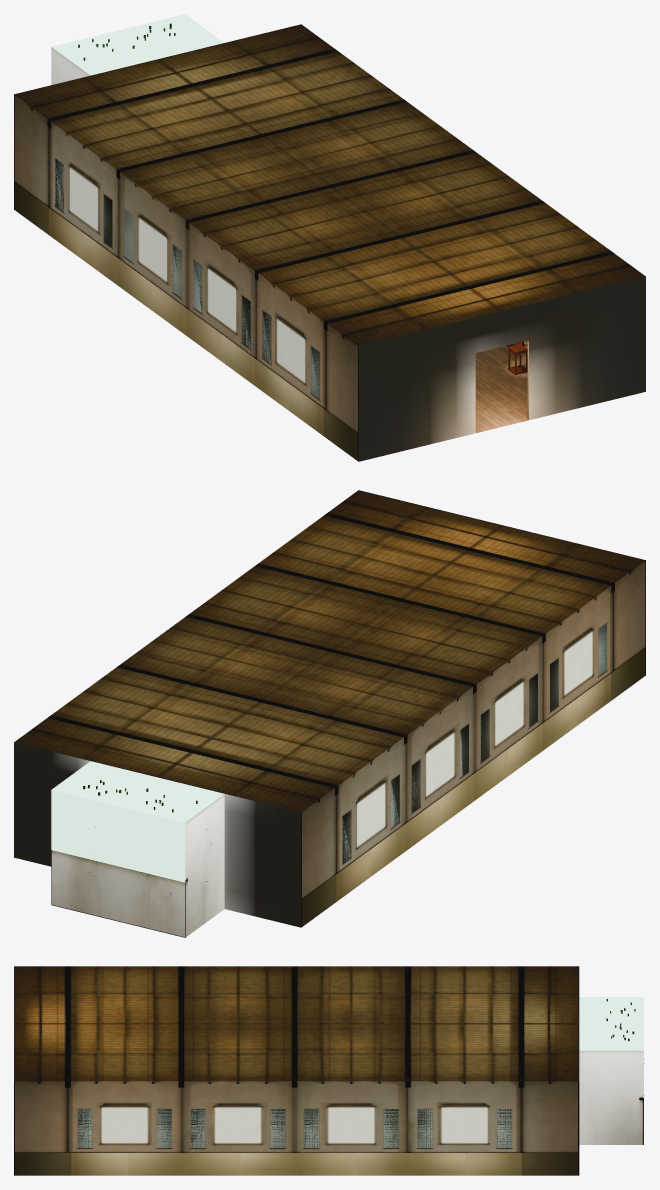
File: carving-hall.glb
The picture shows the model from 3 angles, top to bottom: view 1: azimuth 30°, elevation 25°; view 2: azimuth 150°, elevation 25°; view 3: azimuth 270°, elevation 25°; orthographic projection. The views are drawn at different scales.
Visible parts, largest first — view 1: hall_ceiling, hall_wall_left, hall_ends, hall_floor_a; view 2: hall_ceiling, hall_wall_left, hall_ends; view 3: hall_ceiling, hall_wall_right, hall_ends.
Part boxes in pixels (bbox=[...]): hall_ceiling: bbox=[15, 25, 644, 345]; hall_wall_left: bbox=[14, 95, 357, 460]; hall_ends: bbox=[14, 14, 645, 461]; hall_floor_a: bbox=[475, 340, 528, 432]; hall_ceiling: bbox=[15, 490, 644, 811]; hall_wall_left: bbox=[302, 561, 645, 926]; hall_ends: bbox=[14, 490, 645, 937]; hall_ceiling: bbox=[15, 966, 577, 1081]; hall_wall_right: bbox=[15, 1078, 577, 1175]; hall_ends: bbox=[14, 966, 644, 1175].
Bounding box in the file's own units: 12 × 4.79 × 27.87.
Materials: 11 (8 with a texture image).
